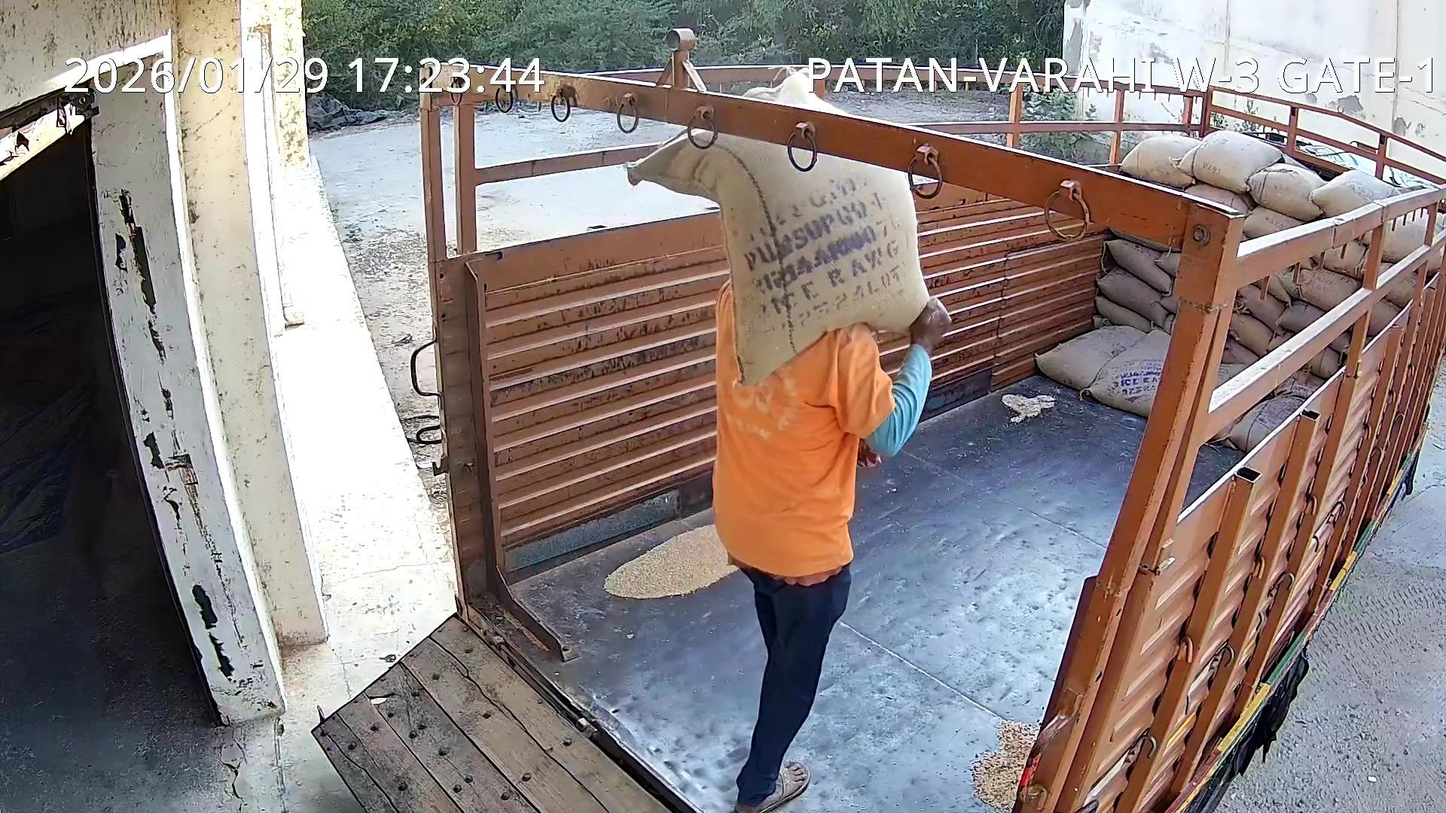Sack: (628, 126, 928, 382)
